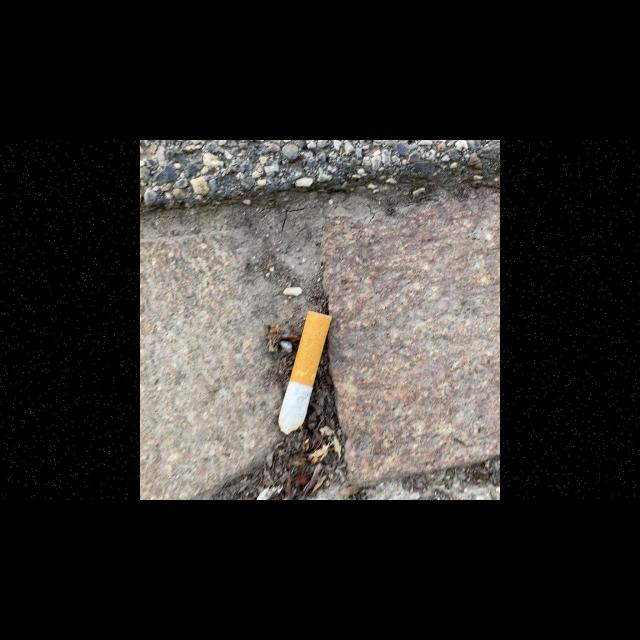cigarette: (277, 310, 333, 436)
